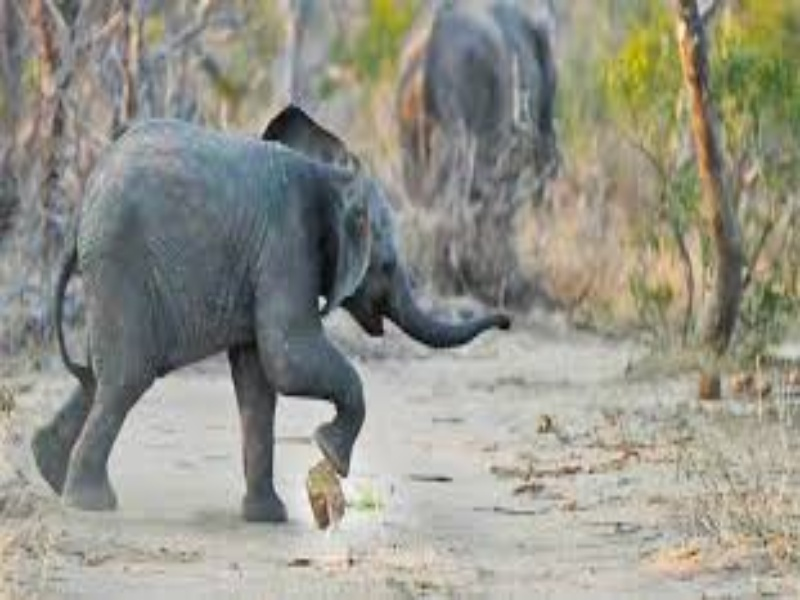elephant: (14, 102, 512, 563)
